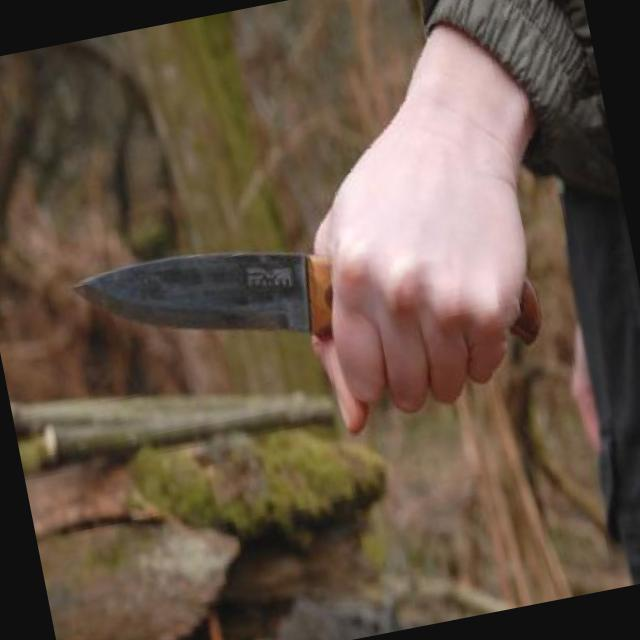knife: (61, 177, 568, 486)
